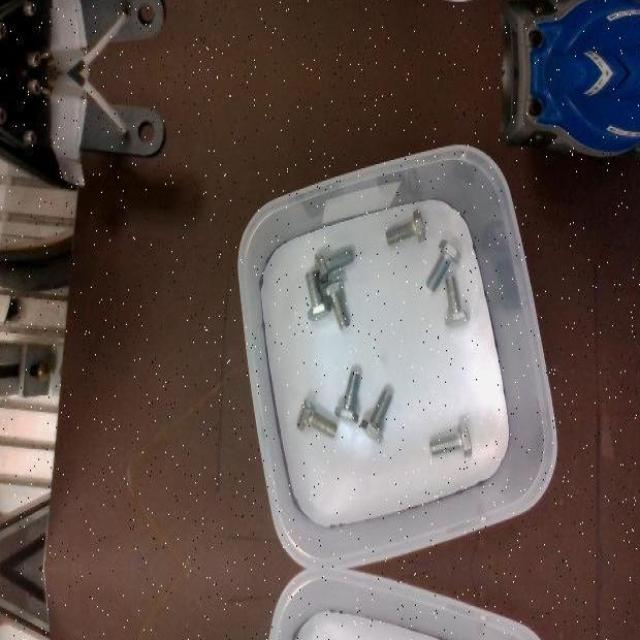screw: (426, 238, 462, 290), (360, 389, 392, 443), (297, 398, 338, 437), (428, 422, 472, 457), (385, 210, 425, 247), (334, 370, 361, 422), (321, 278, 349, 328), (314, 248, 353, 283), (444, 274, 470, 326), (304, 270, 330, 320)
